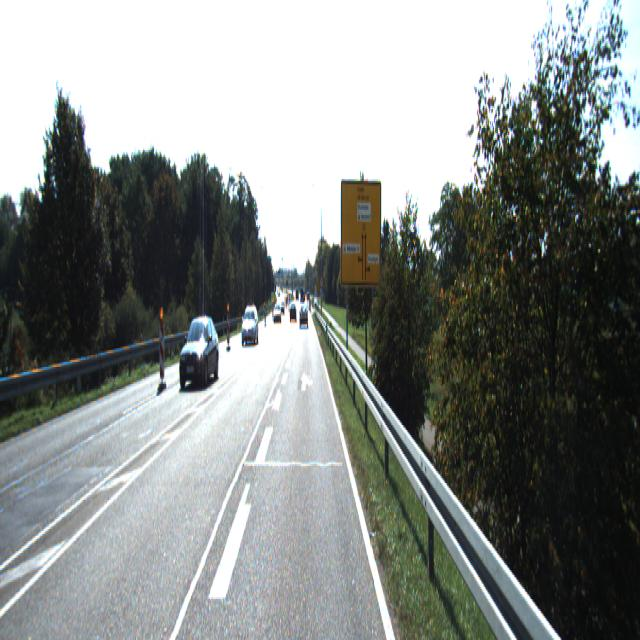Car: (179, 313, 220, 391), (241, 306, 259, 346), (300, 304, 308, 326)
DontCare: (273, 293, 298, 324)
